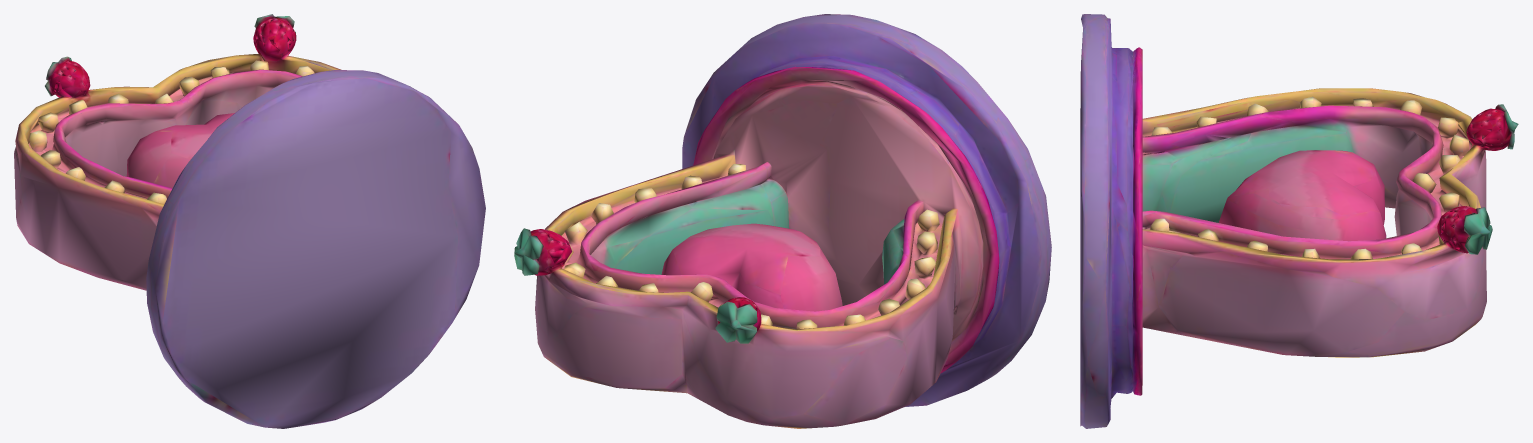
The picture shows the model from 3 angles, left to right: view 1: azimuth 30°, elevation 25°; view 2: azimuth 150°, elevation 25°; view 3: azimuth 270°, elevation 25°; orthographic projection. The views are drawn at different scales.
Parts seen in each view (by area): view 1: material; view 2: material; view 3: material.
Boxes of the visible parts, x1,y1,x2,y2 form: material: (14, 14, 485, 428); material: (514, 14, 1051, 428); material: (1080, 14, 1518, 428).
Size of the model in its own units: 0.9607 by 0.9476 by 1.
1 material, 1 textured.
